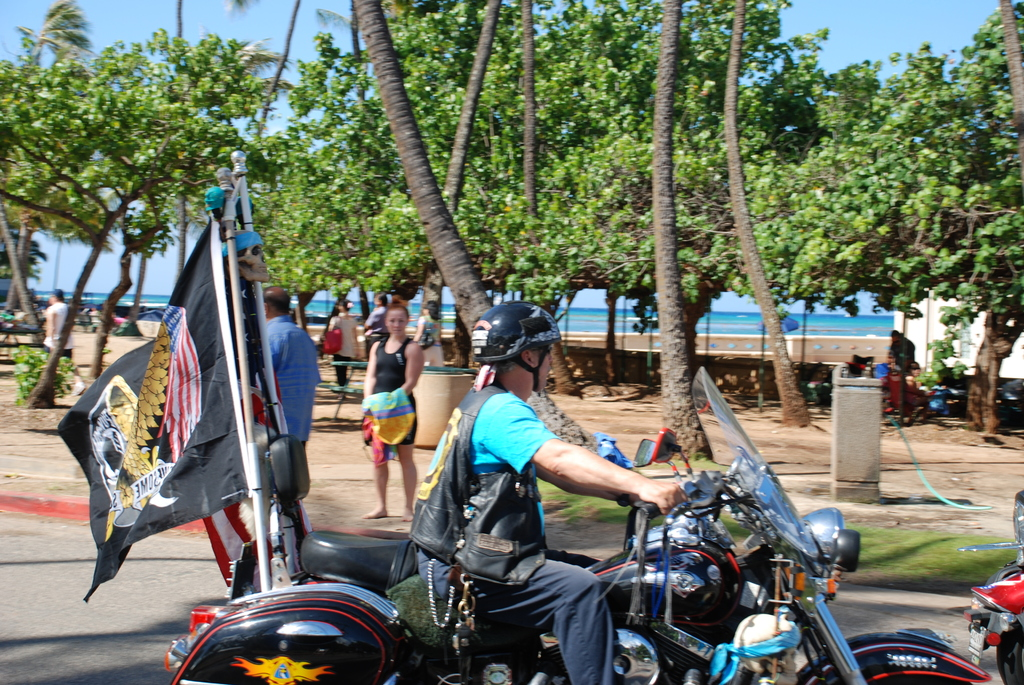Motorcycle: (111, 330, 892, 683)
